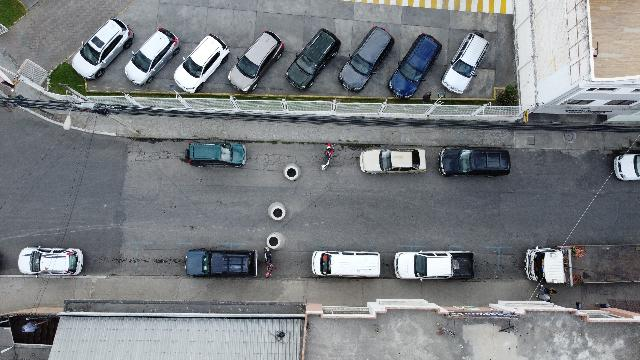Vehiculo: (71, 17, 133, 79), (338, 26, 394, 92), (388, 33, 442, 99), (228, 30, 284, 93), (285, 28, 341, 90), (174, 33, 230, 93), (124, 28, 180, 86), (392, 246, 478, 282), (441, 32, 489, 94), (183, 247, 261, 281), (311, 247, 383, 281), (438, 148, 510, 176), (18, 246, 84, 276), (360, 148, 426, 174), (184, 141, 246, 167), (614, 154, 640, 180)
